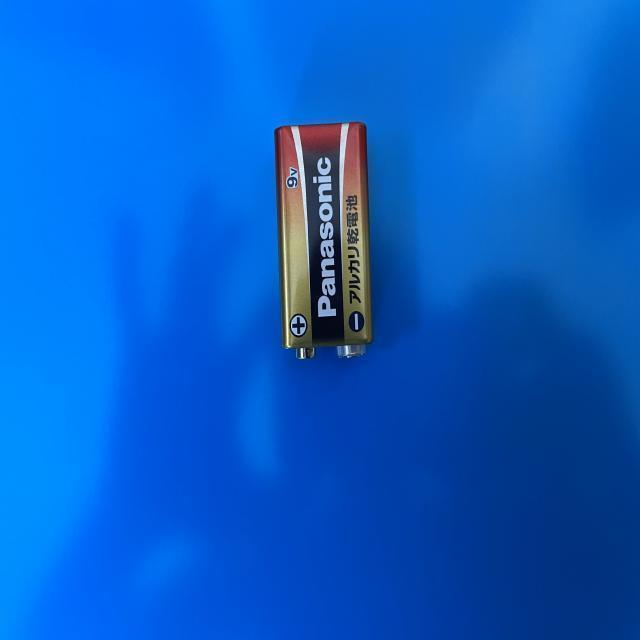9V: (273, 121, 375, 362)
